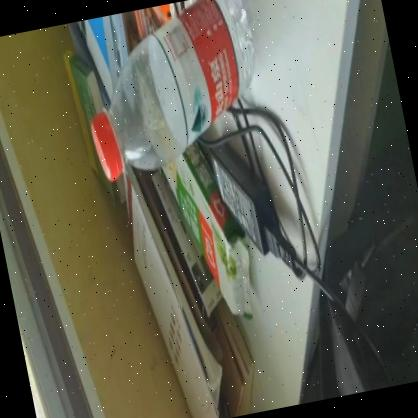bottle: (71, 0, 275, 182)
cap: (85, 106, 132, 183)
label: (151, 6, 246, 138)
